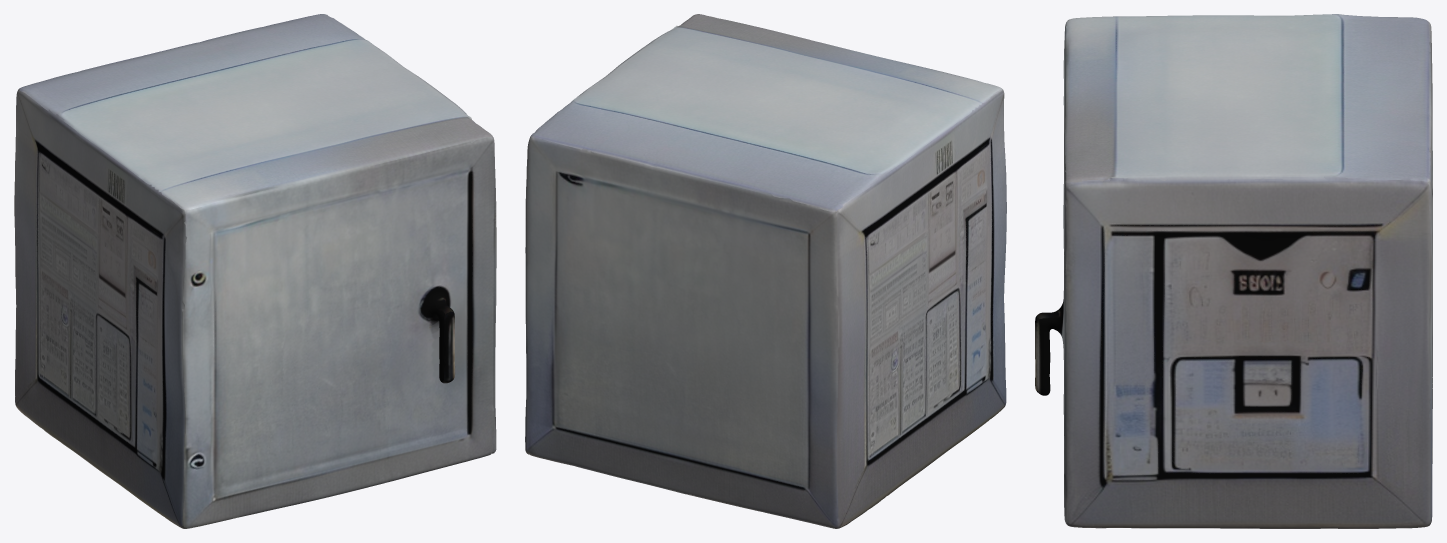
3 renders of one model, left to right at view 1: azimuth 30°, elevation 25°; view 2: azimuth 150°, elevation 25°; view 3: azimuth 270°, elevation 25°, orthographic. The views are drawn at different scales.
Visible parts, largest first — view 1: tmpvtvqho7h.ply; view 2: tmpvtvqho7h.ply; view 3: tmpvtvqho7h.ply.
Boxes of the visible parts, bbox=[...] form: tmpvtvqho7h.ply: bbox=[14, 14, 496, 528]; tmpvtvqho7h.ply: bbox=[525, 14, 1006, 528]; tmpvtvqho7h.ply: bbox=[1035, 14, 1432, 528].
Size of the model in its own units: 196 by 196 by 196.
Materials: 1 (1 with a texture image).
